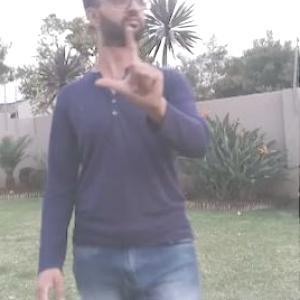land_hand: (91, 19, 168, 109)
